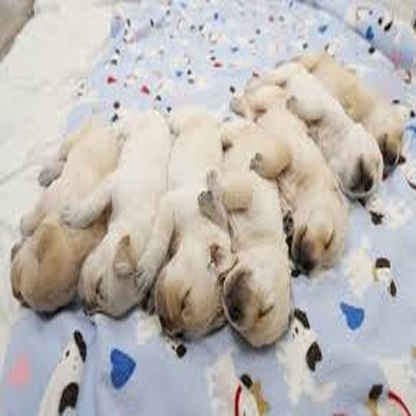guide-dog: (204, 109, 297, 355), (12, 100, 109, 304), (249, 88, 353, 277), (152, 107, 233, 342), (84, 100, 160, 319), (281, 62, 383, 209), (309, 55, 411, 171)
